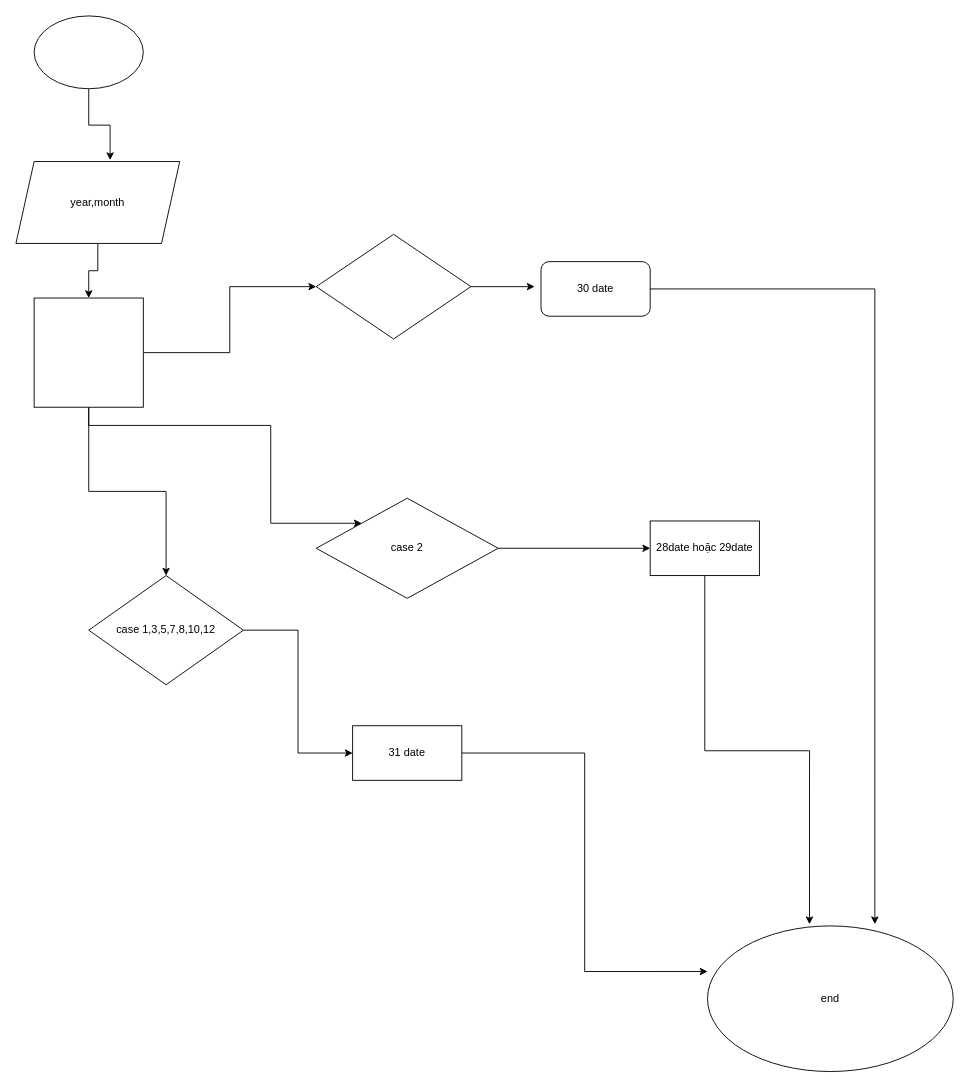
Some shapes in this 969 by 1087 pixel diagram are drawn without their labels. The centre of each missing label's shape, as x and y in pixels:
"case 4,6, 9,11" belongs at (x=393, y=286).
"Start" belongs at (x=88, y=52).
"switch(month)" belongs at (x=88, y=352).
